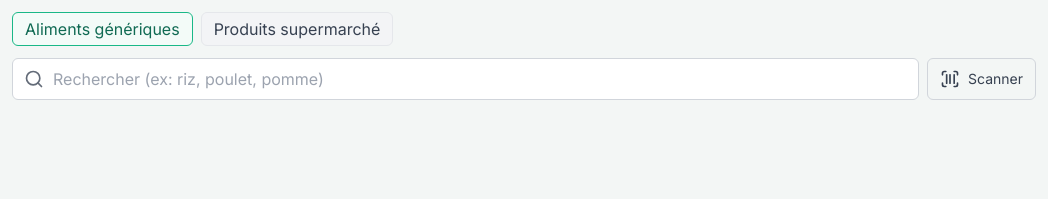
FoodSearch › produit scanné sans valeurs : produits similaires › signale un aliment personnel aux valeurs estimées dans les résultats
Step 1. Type "pasta" into the dropdown named "Recherche d'aliment" → (466, 79), box [12,58,919,100]
Wait 400 ms
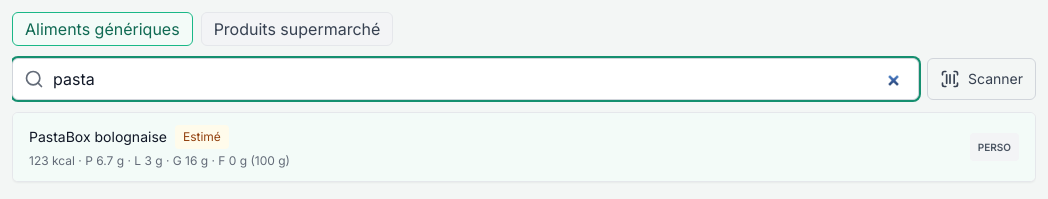
Now the text "Estimé" is shown, box [175,125,229,149]
